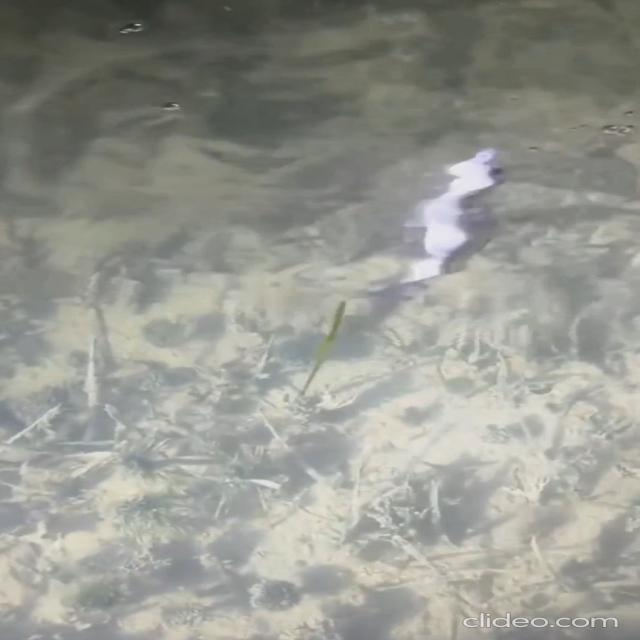fish: (414, 129, 537, 276)
